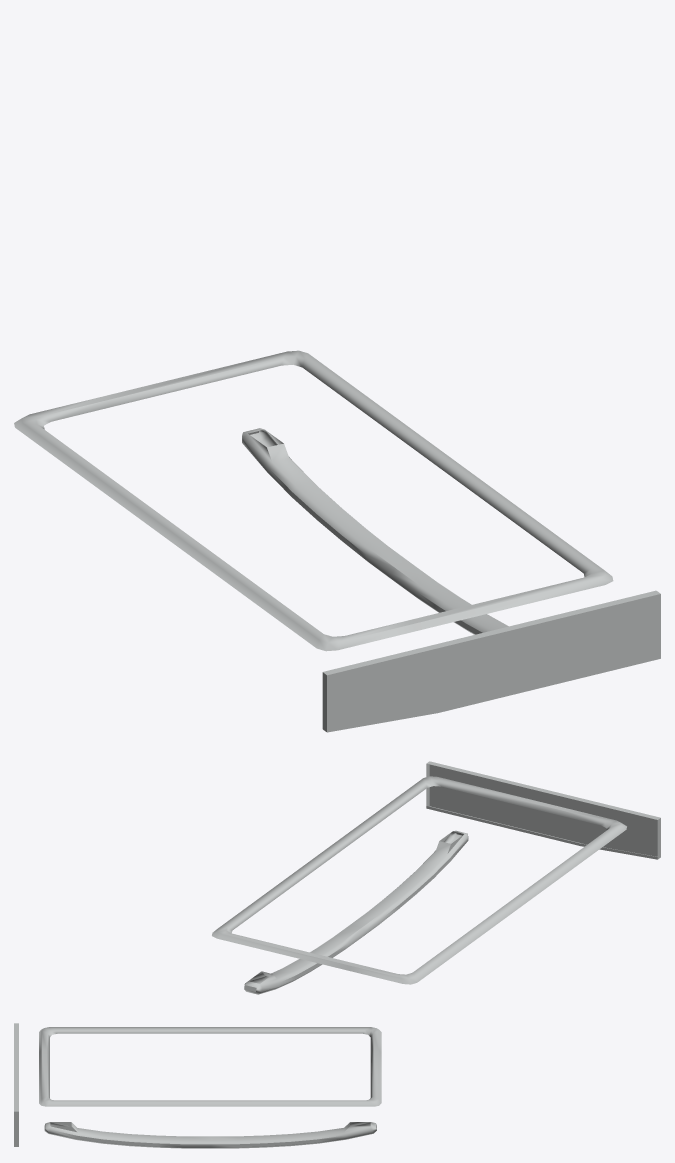
Rendered from MeshFridgeMaindoor1C3_4_GeomSubset_1.obj.
3 renders of one model, top to bottom at view 1: azimuth 30°, elevation 25°; view 2: azimuth 150°, elevation 25°; view 3: azimuth 270°, elevation 25°, orthographic. The views are drawn at different scales.
Parts seen in each view (by area): view 1: MeshFridgeMaindoor1C3_4_GeomSubset_1; view 2: MeshFridgeMaindoor1C3_4_GeomSubset_1; view 3: MeshFridgeMaindoor1C3_4_GeomSubset_1.
Part boxes in pixels (x1,y1,x2,y2): MeshFridgeMaindoor1C3_4_GeomSubset_1: (14, 350, 660, 732); MeshFridgeMaindoor1C3_4_GeomSubset_1: (212, 761, 660, 994); MeshFridgeMaindoor1C3_4_GeomSubset_1: (14, 1023, 381, 1148).
Bounding box in the file's own units: 0.5724 × 0.3943 × 1.76.
